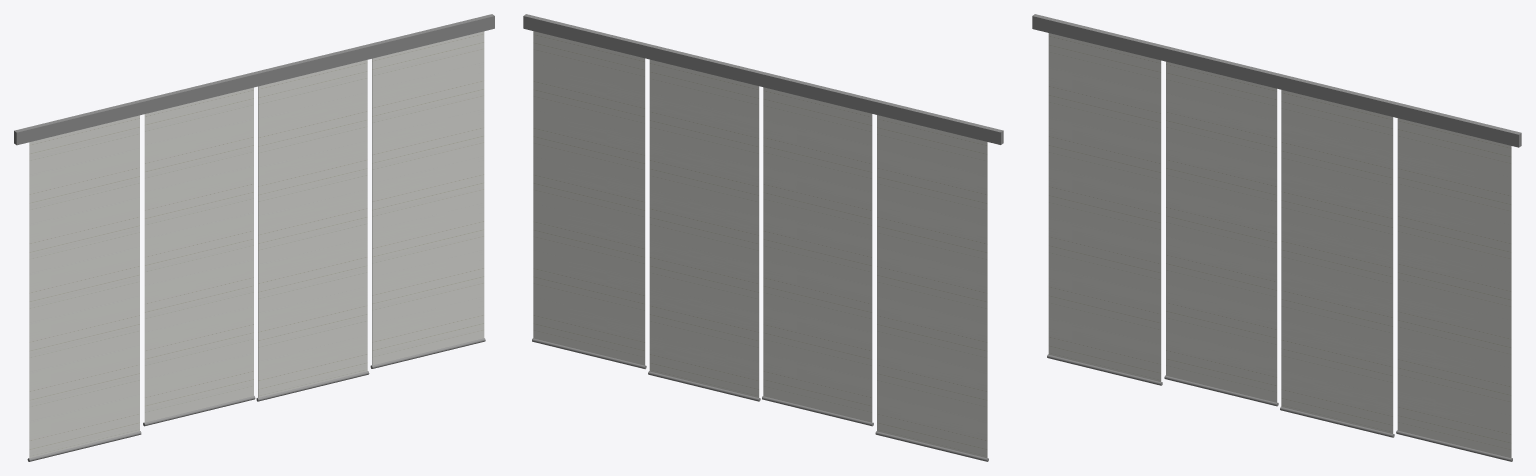
The model's file is Curtains 2.fbx.
3 renders of one model, left to right at view 1: azimuth 30°, elevation 25°; view 2: azimuth 150°, elevation 25°; view 3: azimuth 330°, elevation 25°, orthographic.
Parts seen in each view (by area): view 1: curtains 2; view 2: curtains 2; view 3: curtains 2.
Boxes of the visible parts, <box> form: curtains 2: <box>14,14,494,461</box>; curtains 2: <box>523,14,1003,461</box>; curtains 2: <box>1032,14,1521,461</box>.
Size of the model in its own units: 573 by 383 by 5.71.
2 materials, 1 textured.
